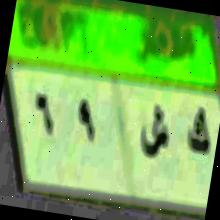6: (26, 88, 62, 148)
9: (70, 91, 107, 147)
kaaf: (180, 100, 216, 174)
sheen: (136, 92, 176, 175)
